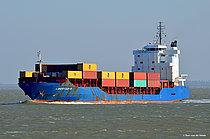Ship: (17, 18, 195, 108)
